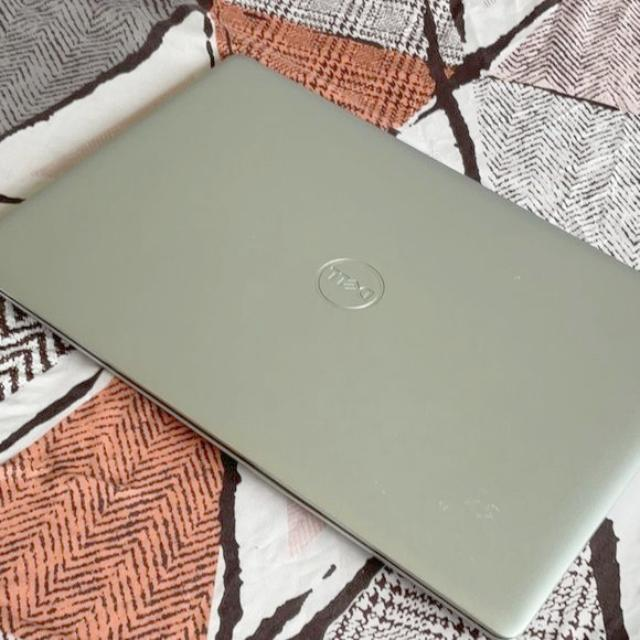laptop: (8, 56, 640, 640)
